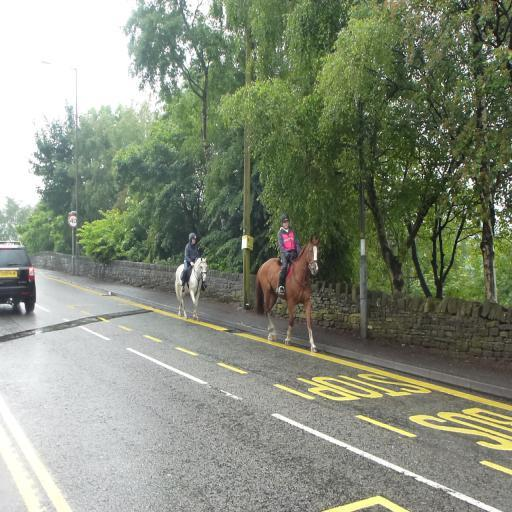Horse: (254, 234, 320, 354), (174, 255, 210, 321)
